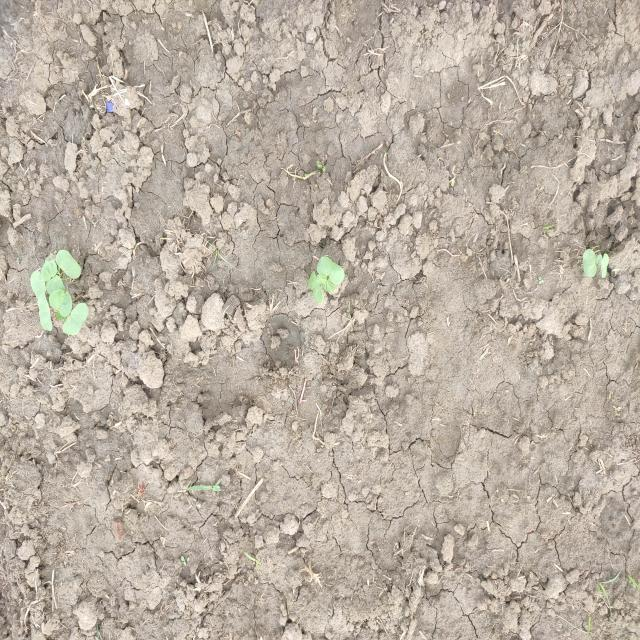seedling_s4: (62, 303, 89, 336), (317, 256, 345, 285), (56, 249, 81, 279), (49, 290, 72, 317), (37, 291, 52, 331), (30, 270, 46, 299), (309, 271, 323, 303), (46, 275, 66, 294), (316, 274, 336, 292), (41, 260, 57, 282)
